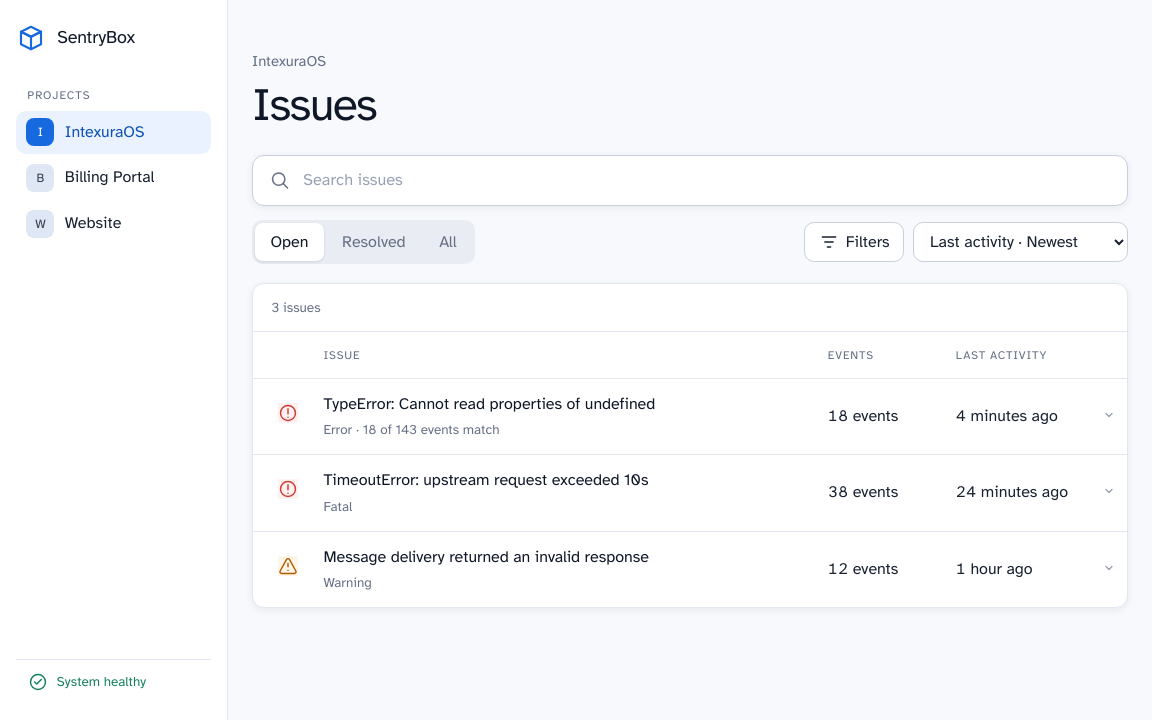
Test: project-first issue list › sorts the complete filtered project scope by event count
Expected: the link "TypeError: Cannot read properties of undefined" is shown, [323,394,655,438]
Select "Events · Fewest" in the dropdown named "Sort issues". click: [1020, 242]
box: [913,222,1128,262]
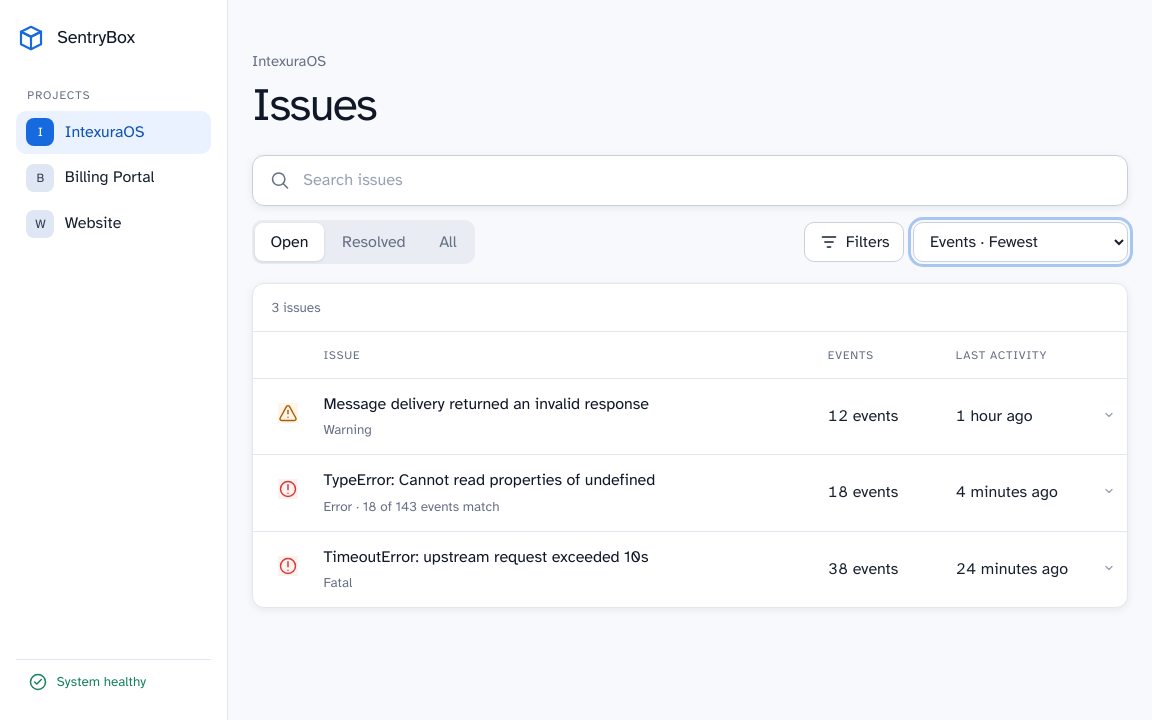
Result: the link with class "issue-table-link" shows "Message delivery returned an invalid response" at [323,394,649,438]
Result: the link with class "issue-table-link" shows "TimeoutError: upstream request exceeded 10s" at [323,547,648,591]
